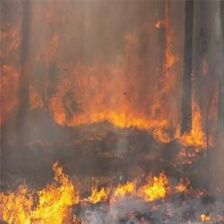fire: (1, 159, 178, 224), (52, 81, 215, 136)
